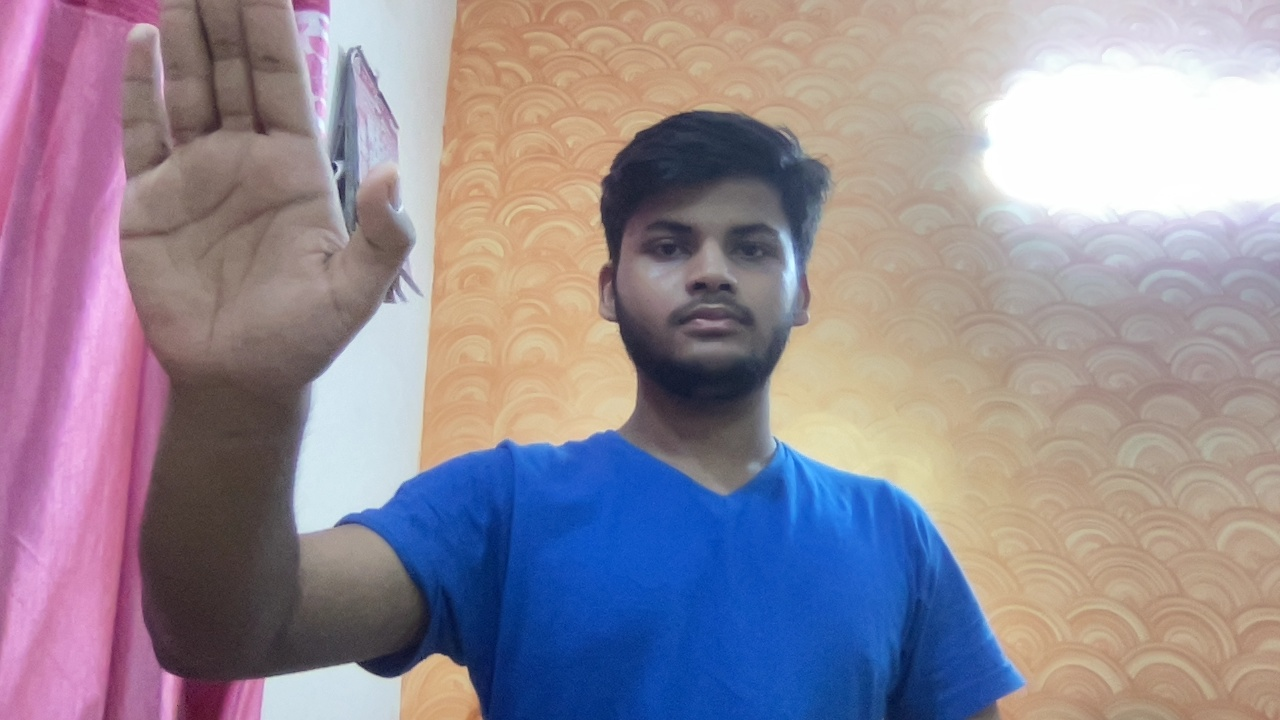hello: (53, 1, 438, 380)
